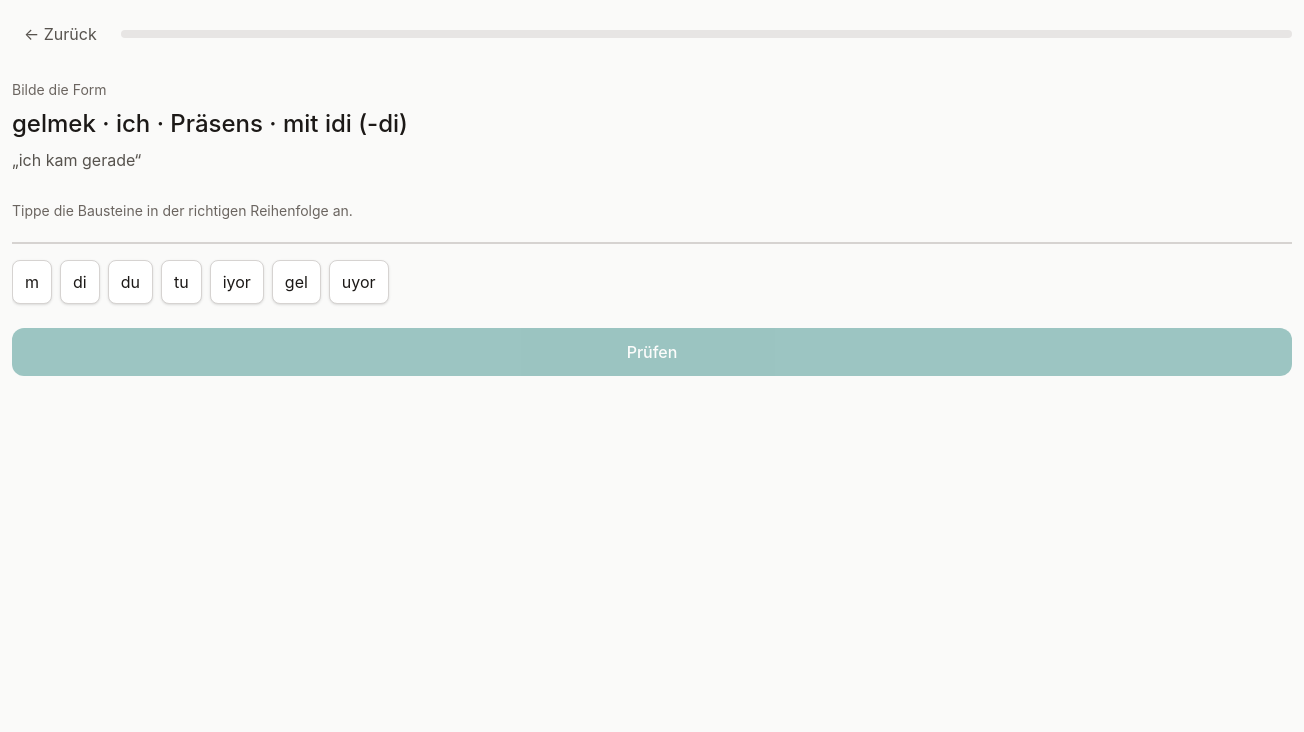
LessonRunner › Konjugation mit idi: Formel nennt Präsens und Kopula
Expected: the text "gelmek · ich · Präsens · mit idi (-di)" is shown, [12,109,408,138]
Click the button "gel" at coordinates (296, 282), box [272,260,321,304]
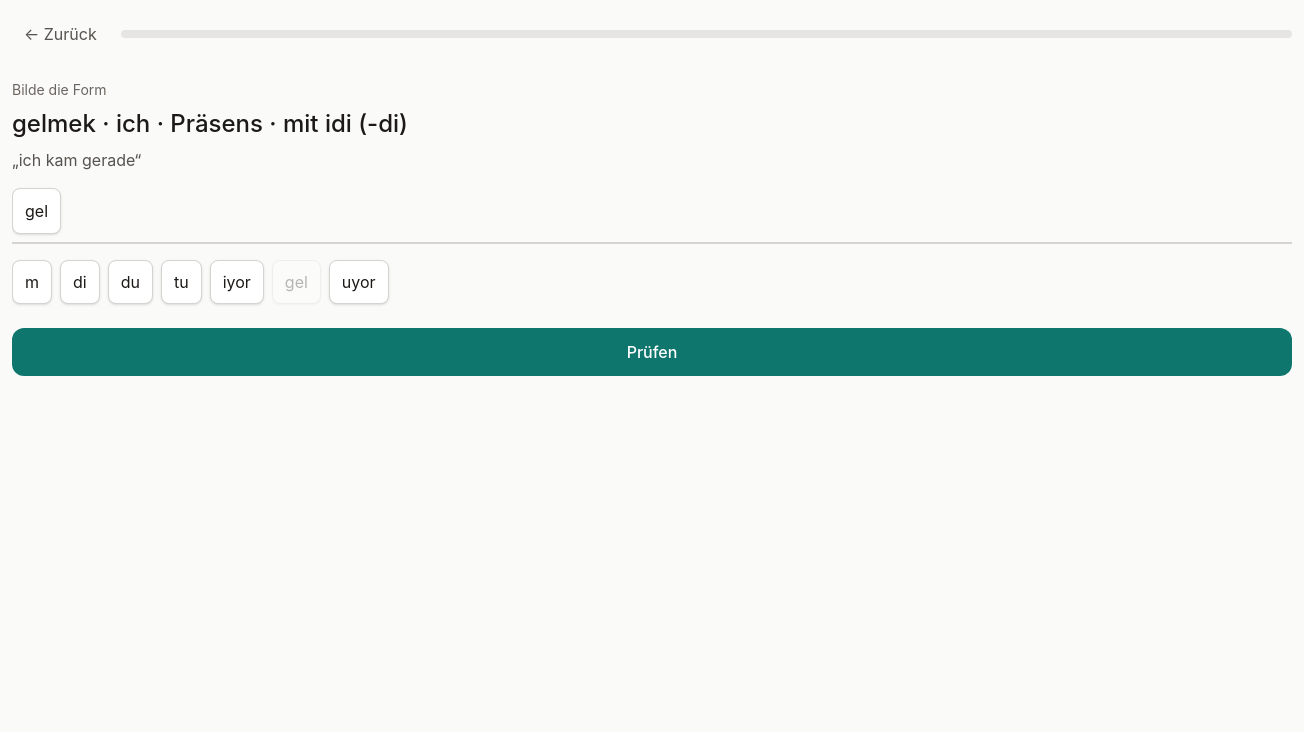
Click the button "iyor" at coordinates (237, 282), box [210,260,264,304]
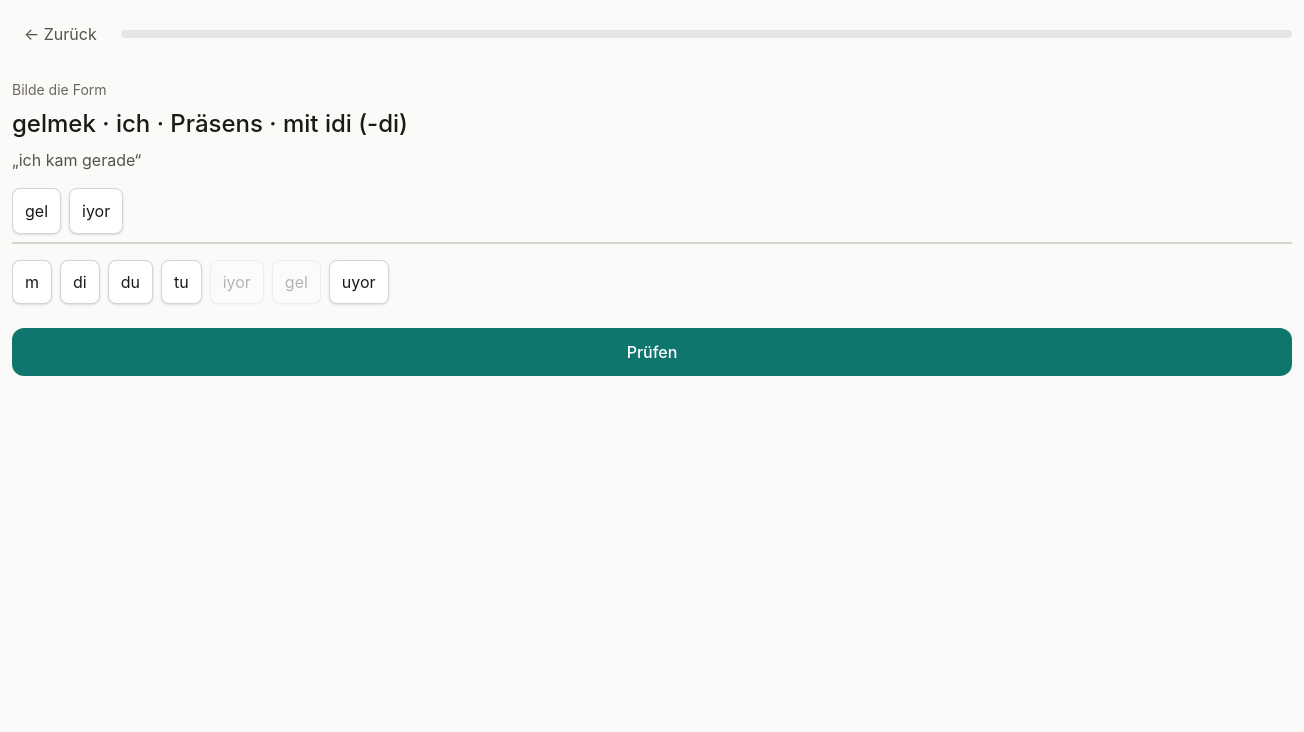
Click the button "du" at coordinates (130, 282), box [108,260,153,304]
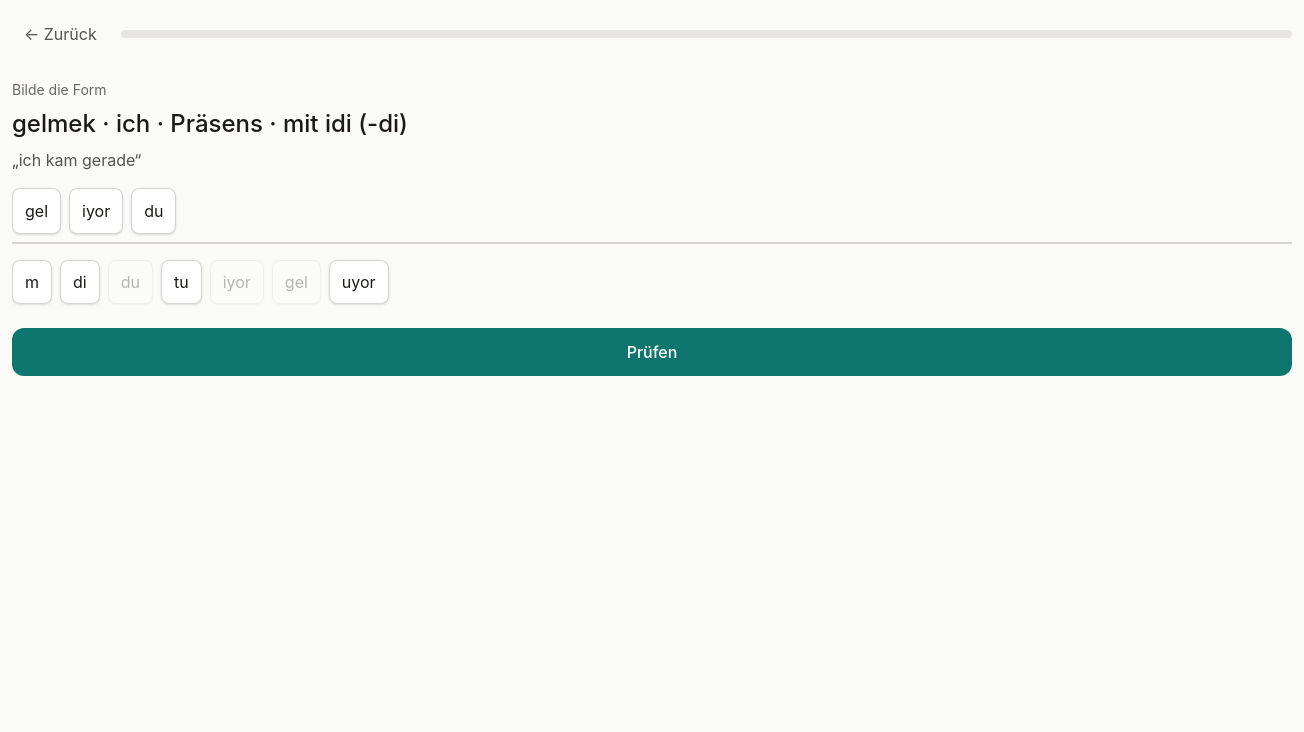
Click the button "m" at coordinates (32, 282), box [12,260,52,304]
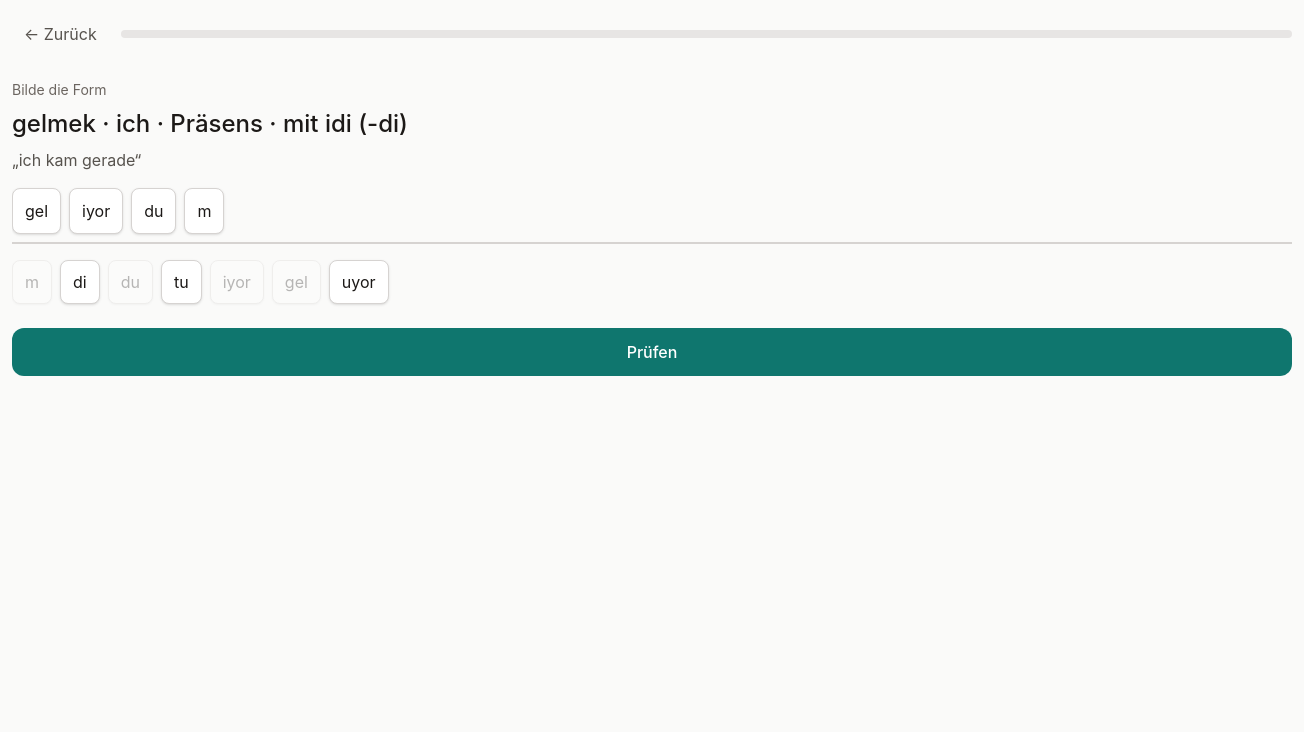
Click the button "Prüfen" at coordinates (652, 352), box [12,328,1292,376]
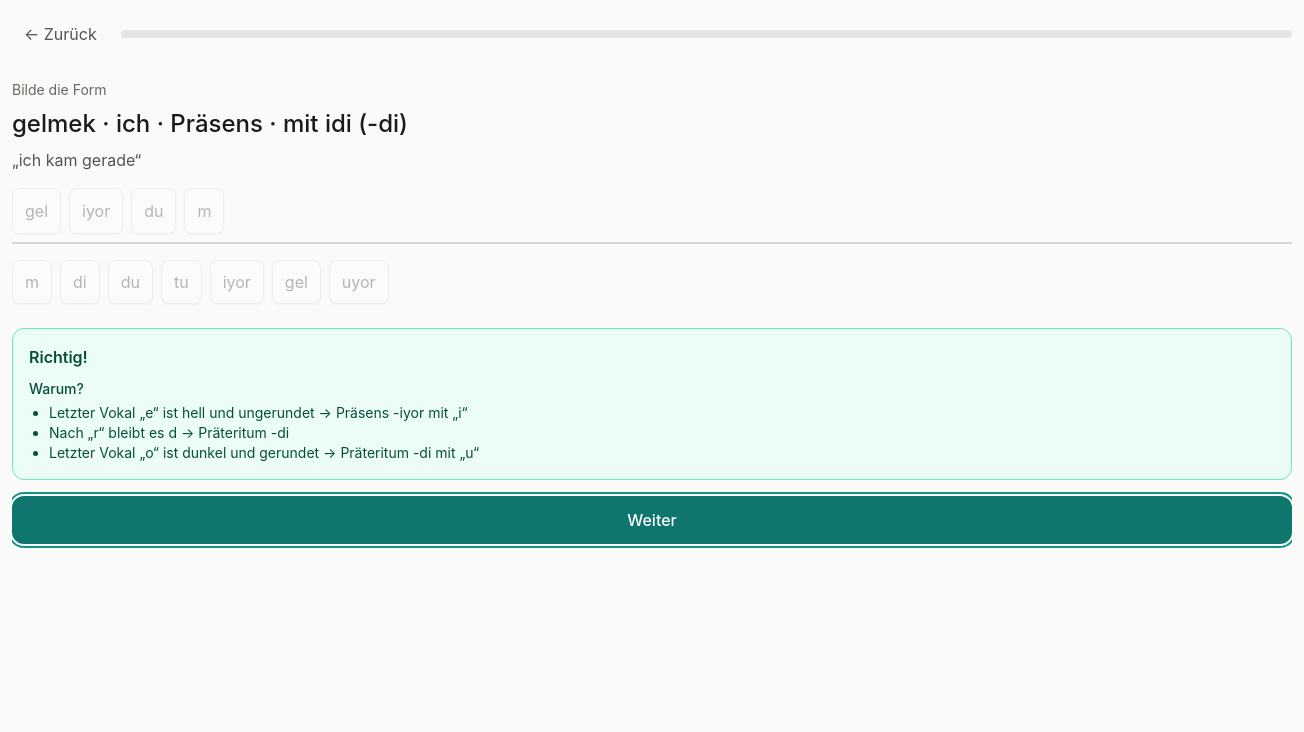
Expected: the message shows "Richtig!", [29,347,88,367]
